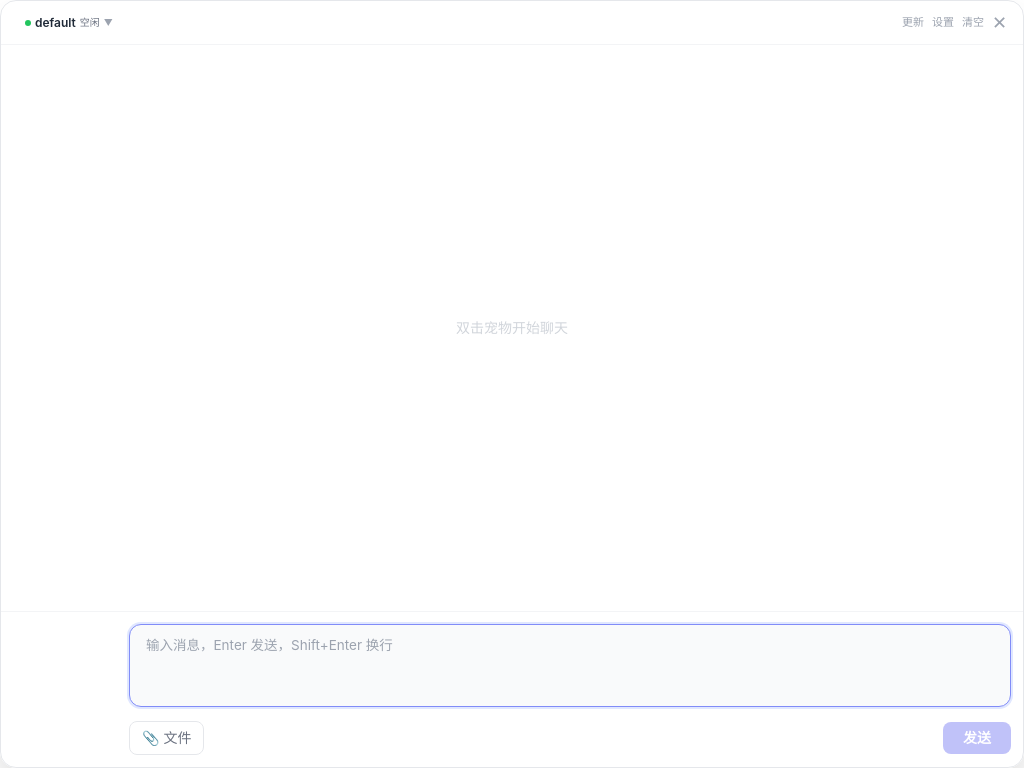
Test: ChatWindow › sends input text via sendMessage and adds to messagesByChat
Step 1. Type "hello" into the text box with placeholder "输入消息，Enter 发送，Shift+Enter 换行" → (570, 666), box [129, 624, 1011, 707]
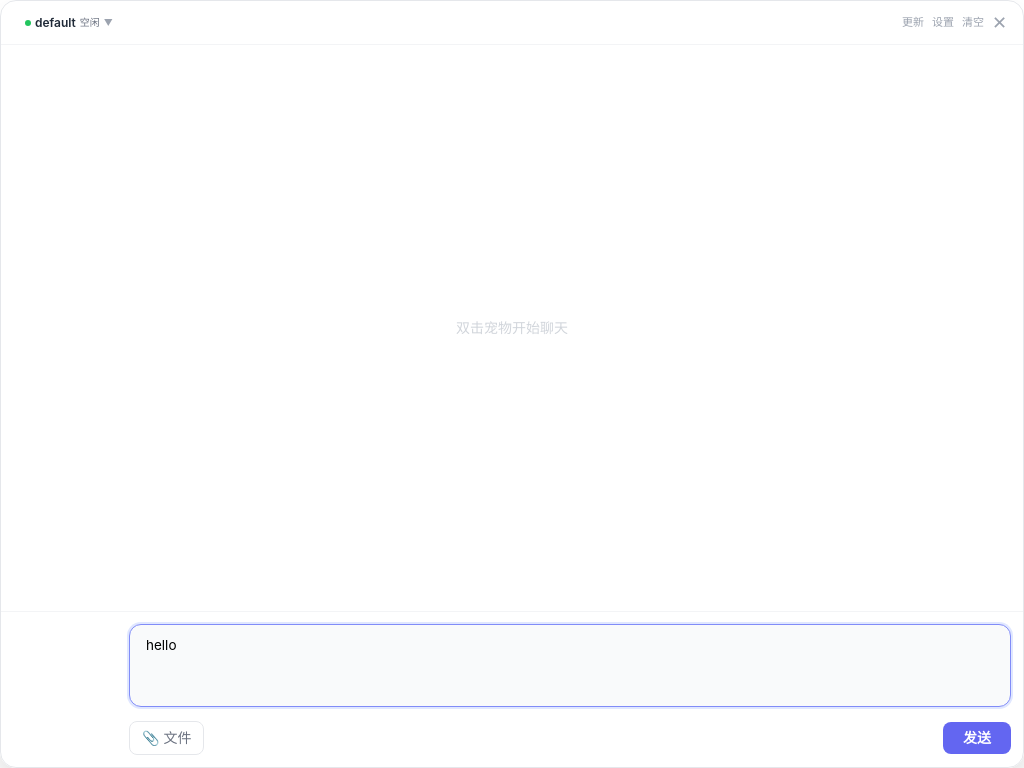
Step 2. Click the button "发送" → (977, 738), box [943, 722, 1011, 754]
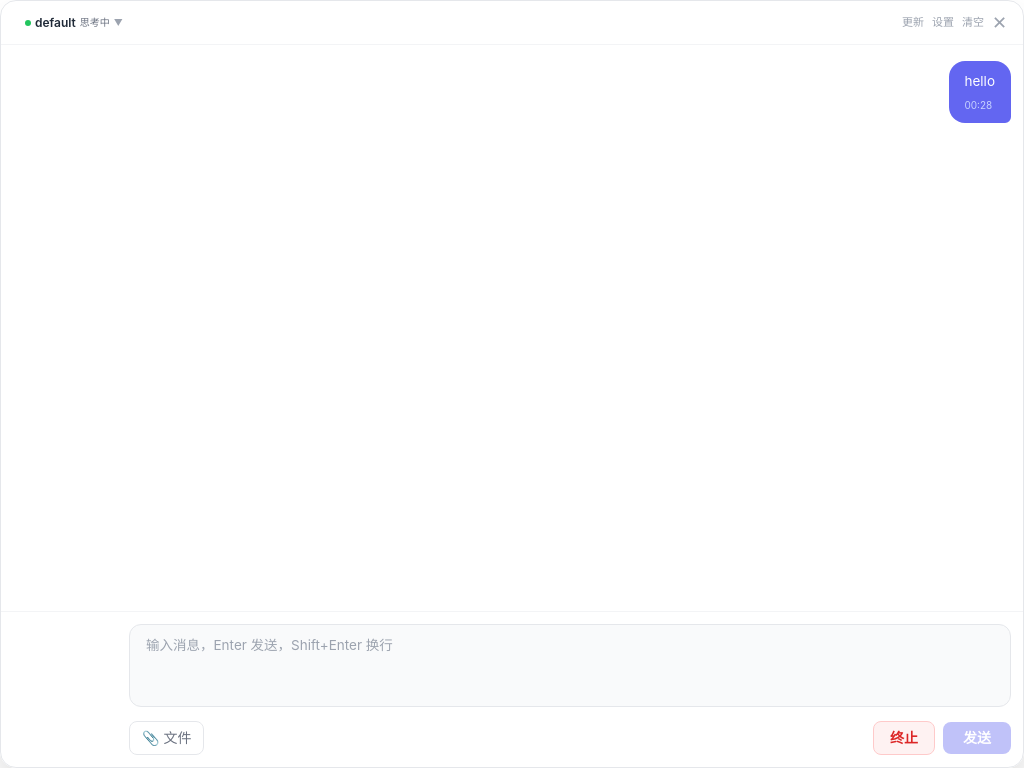
Expected: the text "default" is shown, [35, 14, 76, 32]
Result: the text "hello" is shown at [964, 71, 995, 93]
